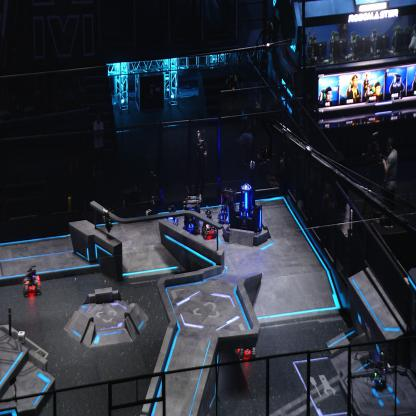car: (219, 187, 238, 225), (235, 329, 257, 361), (21, 264, 41, 297), (183, 194, 200, 232), (200, 210, 217, 239), (166, 202, 178, 224)
